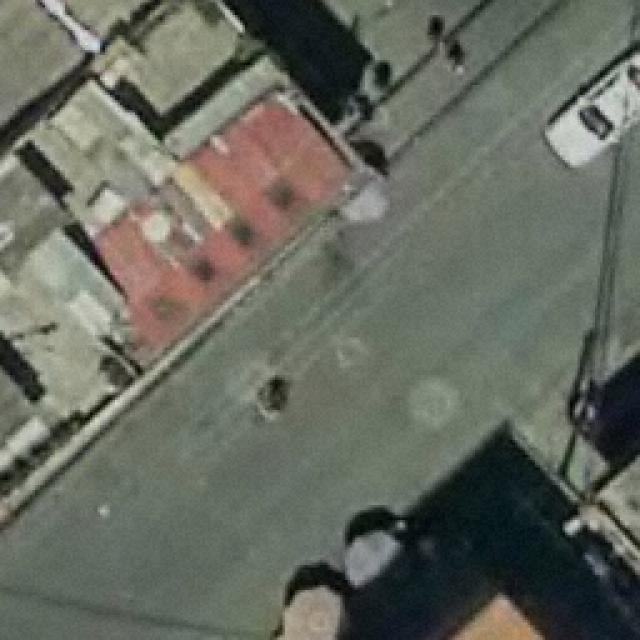vendedor_ambulante: (341, 526, 413, 602), (272, 580, 360, 640)
